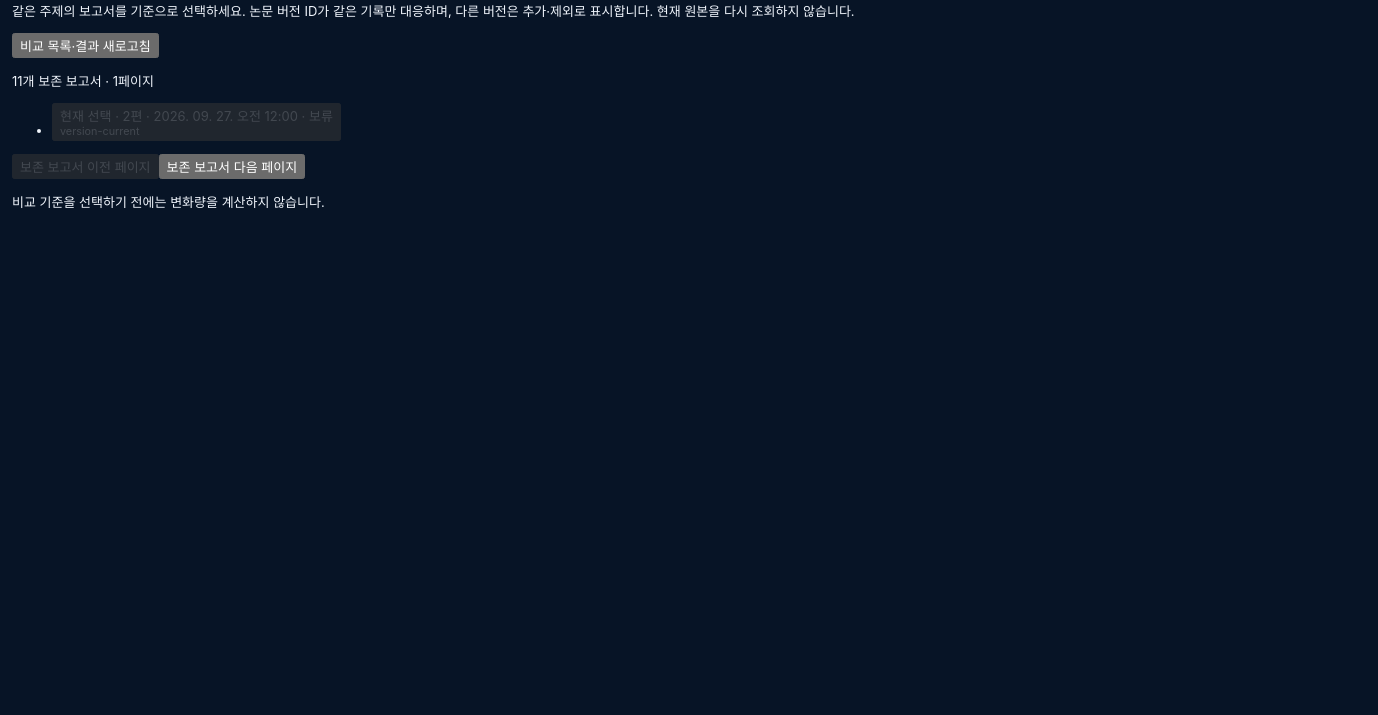
Scenario: requires an explicit baseline and pages preserved reports without showing an invented zero difference
Expected: the text "11개 보존 보고서 · 1페이지" is shown, [12,73,154,89]
Expected: the text "비교 기준을 선택하기 전에는 변화량을 계산하지 않습니다." is shown, [12,194,325,210]
Step 1. Click the button "보존 보고서 다음 페이지" → {"x": 232, "y": 166}, box [159,154,305,179]
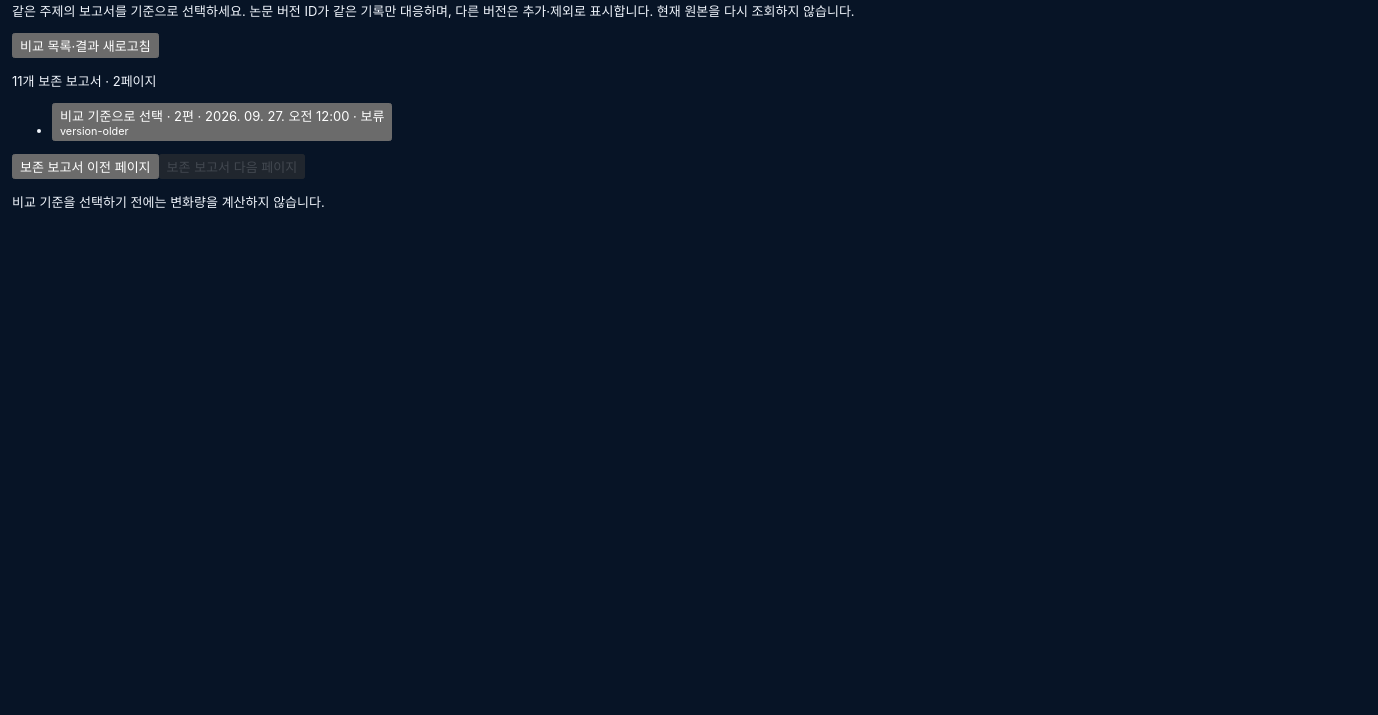
Result: the text "11개 보존 보고서 · 2페이지" is shown at [12,73,156,89]
Step 2. Click the button "비교 기준으로 선택" → {"x": 222, "y": 122}, box [52,103,392,141]
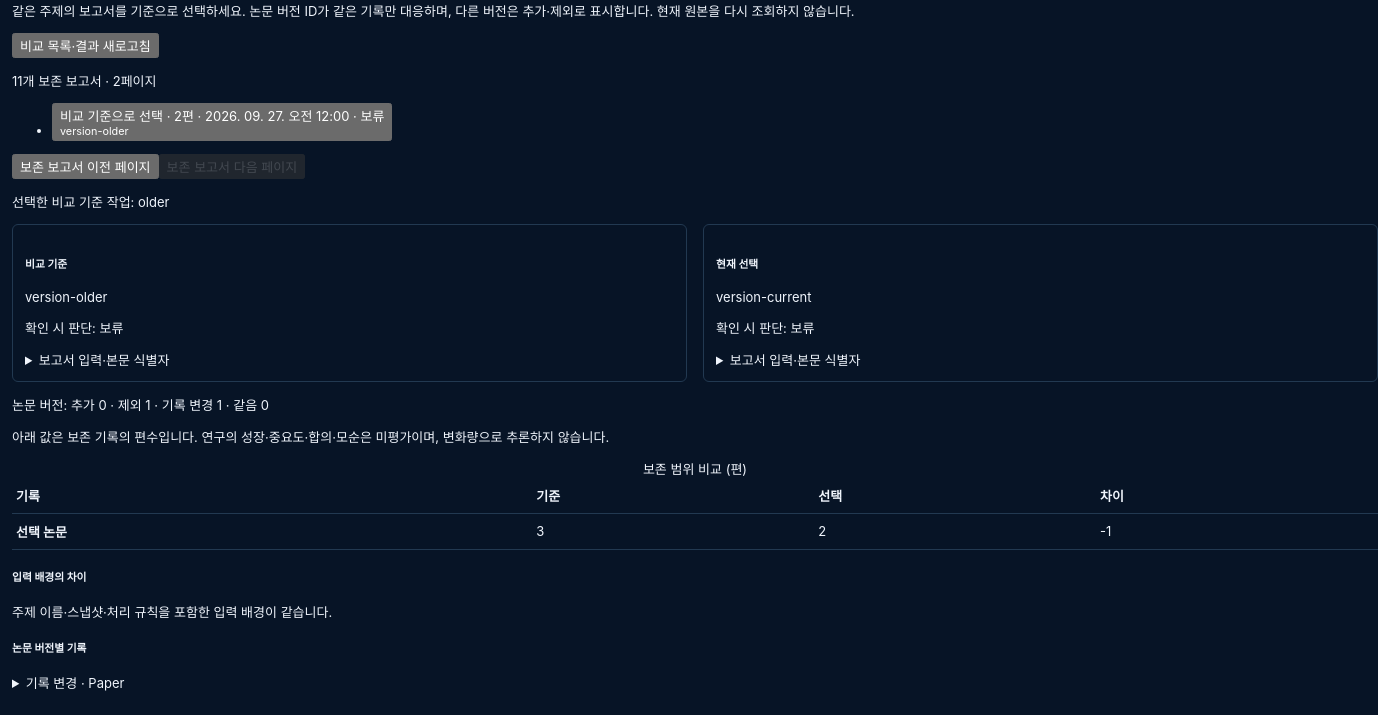
Result: the text "논문 버전: 추가 0 · 제외 1 · 기록 변경 1 · 같음 0" is shown at [12,397,269,413]
Step 3. Click the heading "기록 변경 · Paper" → {"x": 75, "y": 683}, box [26,675,124,691]
(page scrolled)
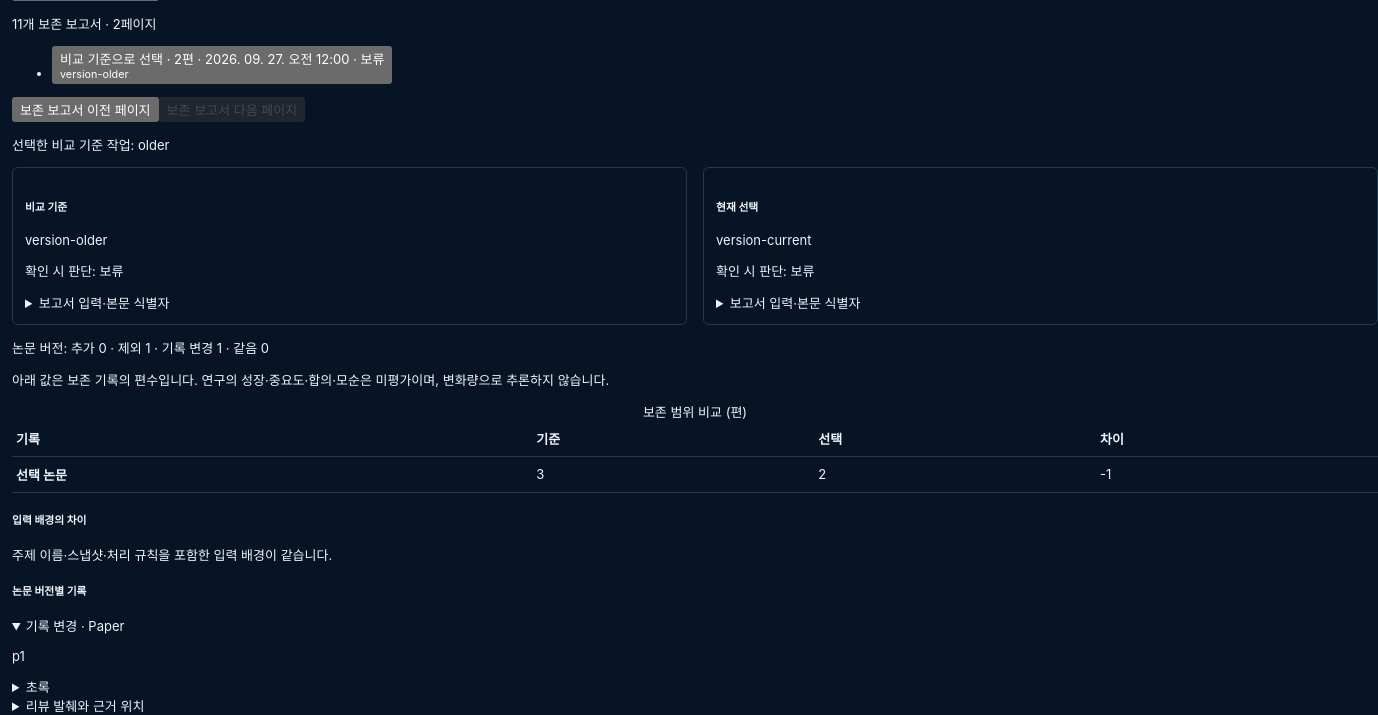
Step 4. Click the heading "초록" → {"x": 38, "y": 687}, box [26,679,50,695]
(page scrolled)
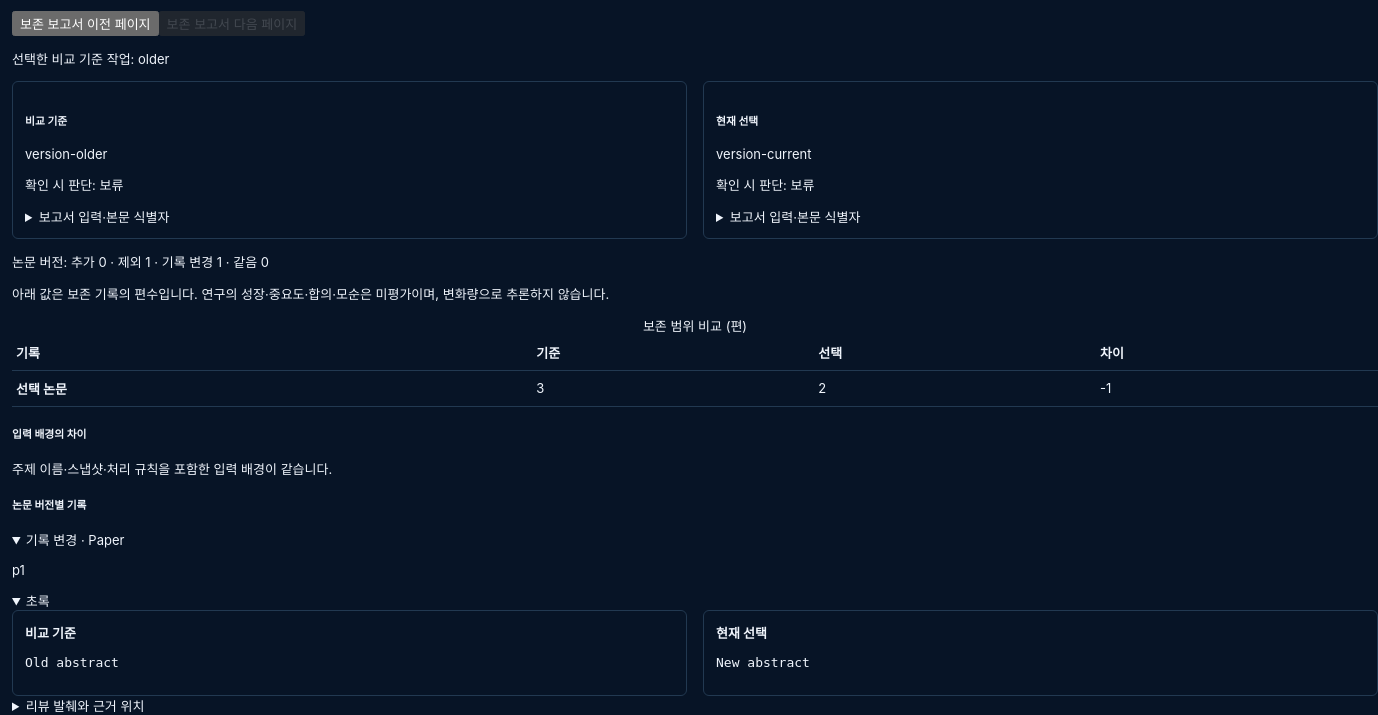
Result: the text "Old abstract" is shown at [25,655,119,670]
Result: the text "New abstract" is shown at [716,655,810,670]
